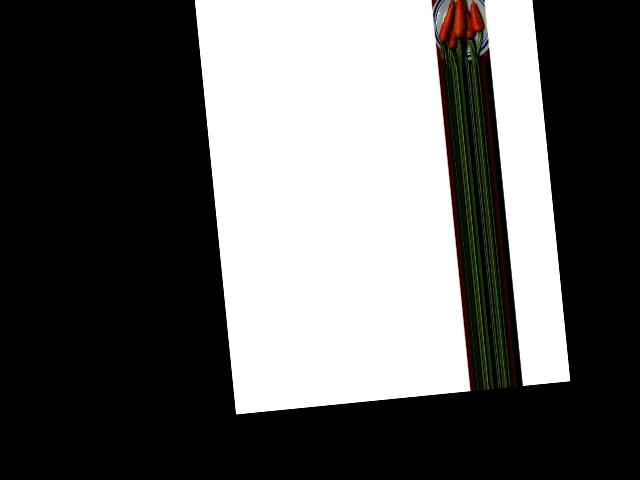carrot: (467, 0, 486, 36)
